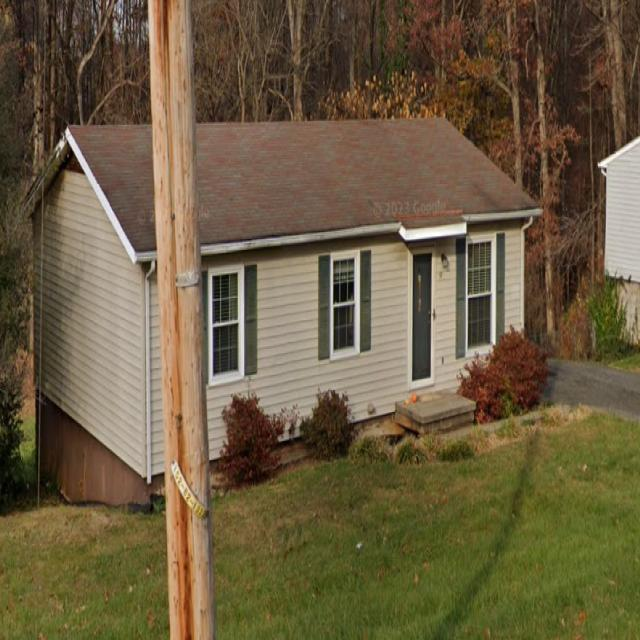House: (21, 114, 544, 512), (598, 134, 640, 350)
